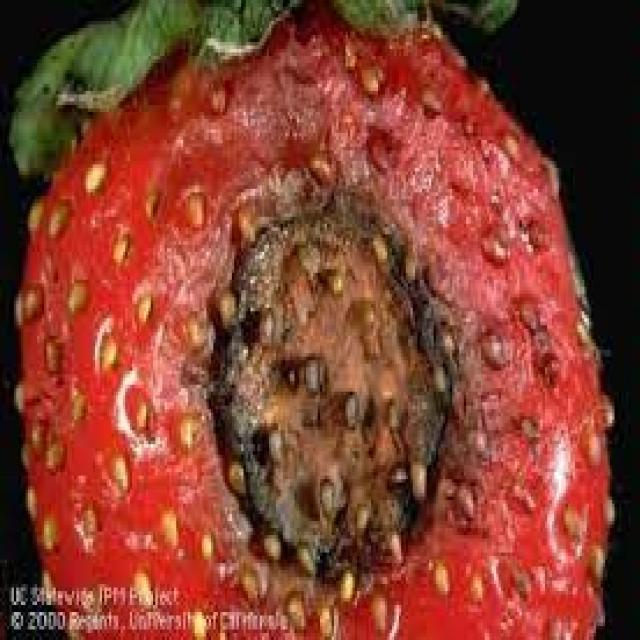Mancha negra Antracnosis: (14, 12, 610, 633)
